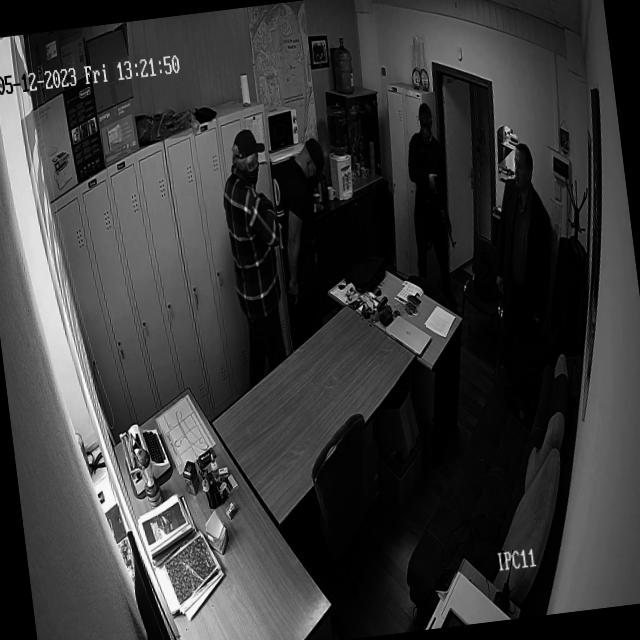gun: (424, 156, 461, 257)
person: (210, 110, 304, 362), (488, 126, 565, 395), (274, 124, 341, 310)
person with a gun: (400, 99, 468, 304)
